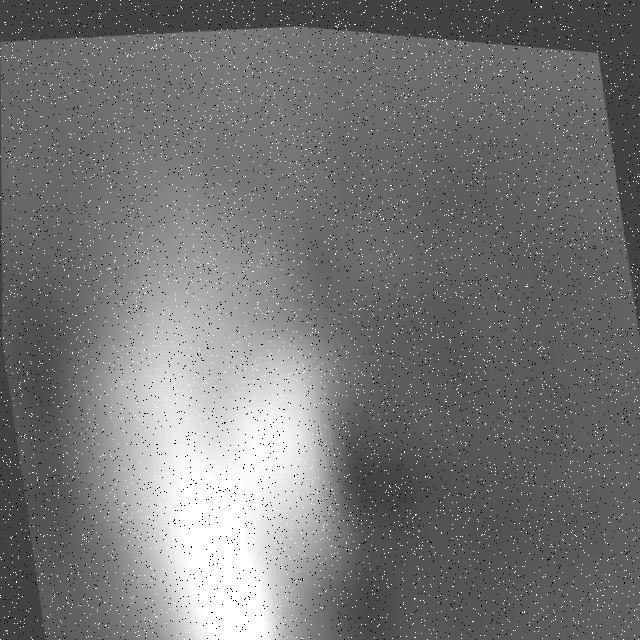person: (45, 187, 411, 640)
